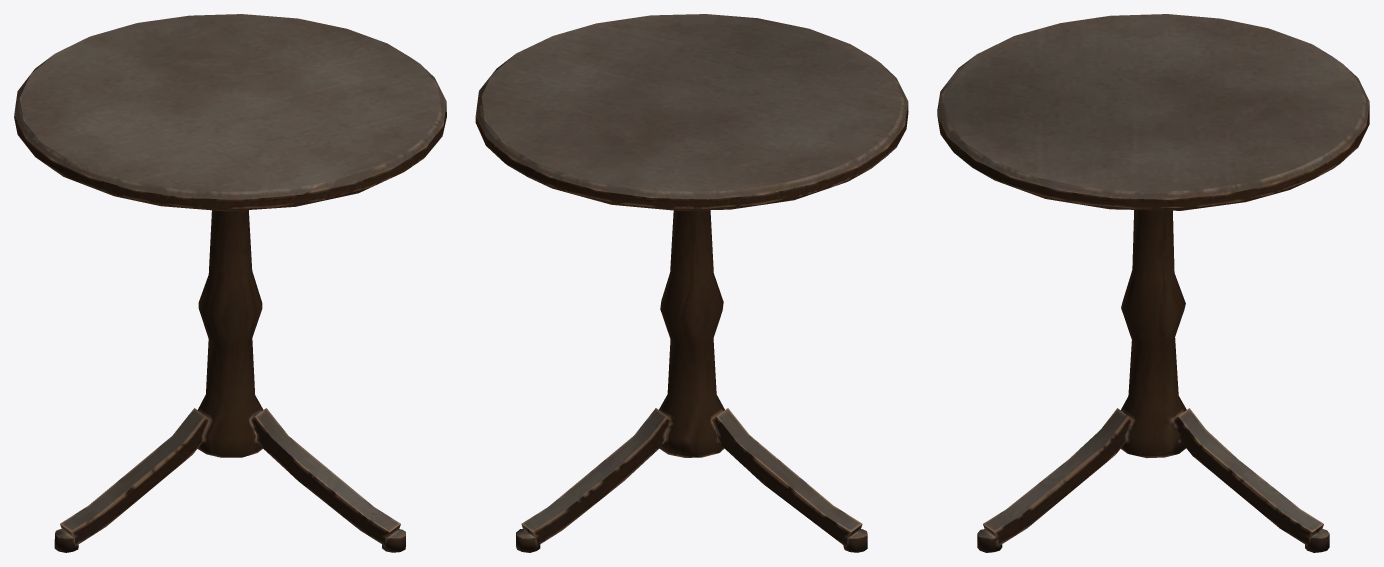
The model's file is side_table-low.glb.
3 renders of one model, left to right at view 1: azimuth 30°, elevation 25°; view 2: azimuth 150°, elevation 25°; view 3: azimuth 270°, elevation 25°, orthographic.
Visible parts, largest first — view 1: side_table-low; view 2: side_table-low; view 3: side_table-low.
Boxes of the visible parts, left/top/right/bottom form: side_table-low: left=14, top=14, right=446, bottom=552; side_table-low: left=475, top=14, right=908, bottom=552; side_table-low: left=937, top=14, right=1369, bottom=552.
Size of the model in its own units: 0.5995 by 0.6195 by 0.5995.
Materials: 1 (1 with a texture image).
